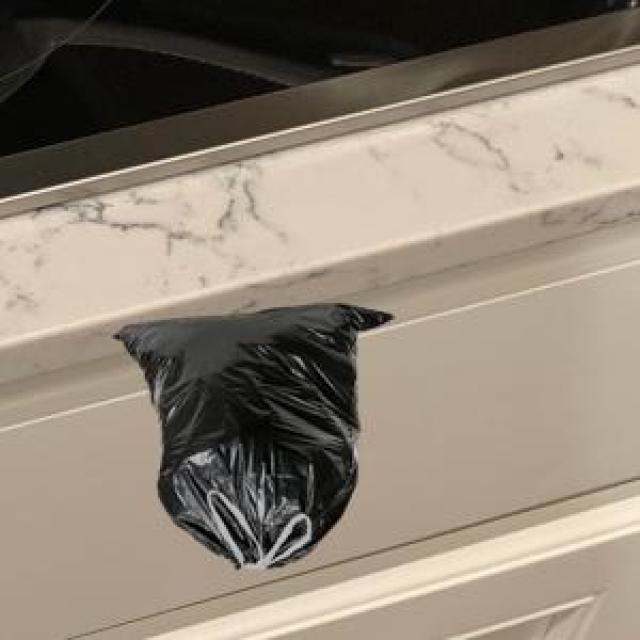miscellaneous trash: (109, 301, 387, 565)
